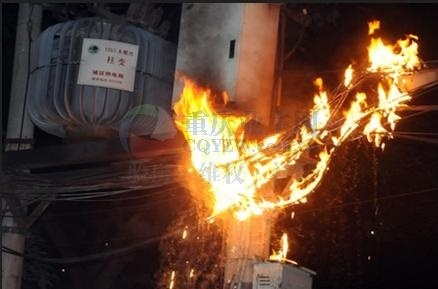fire: (174, 5, 429, 222), (269, 230, 290, 262)
